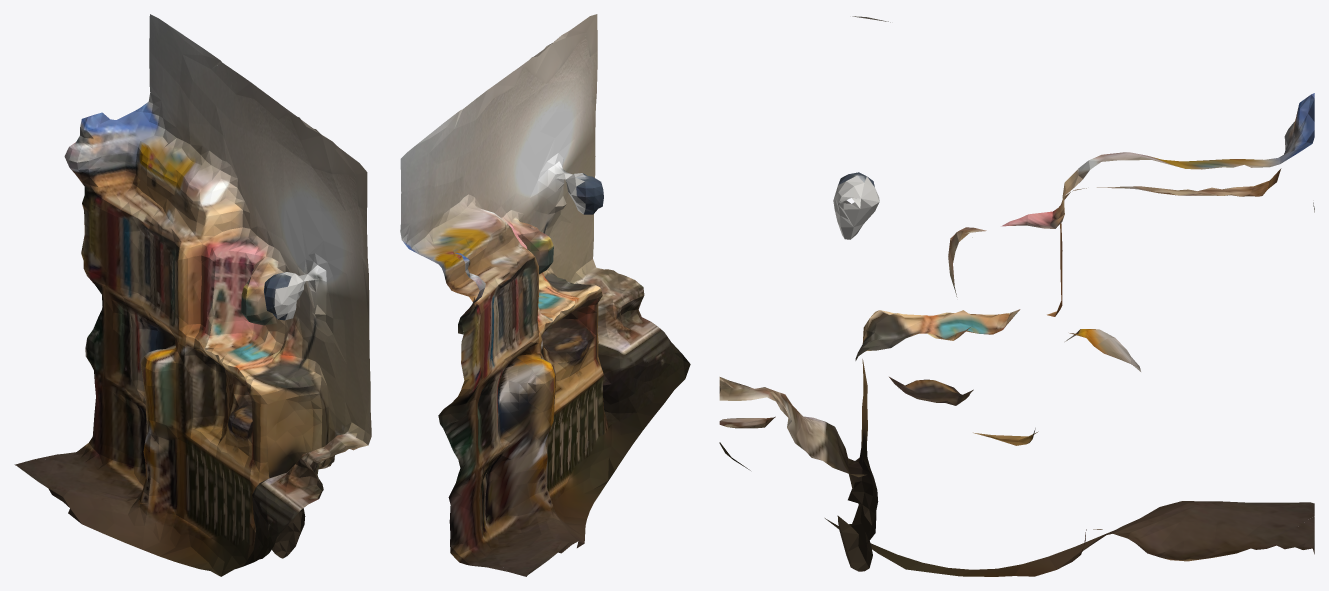
The model's file is bookshelf17.glb.
3 renders of one model, left to right at view 1: azimuth 30°, elevation 25°; view 2: azimuth 150°, elevation 25°; view 3: azimuth 270°, elevation 25°, orthographic. The views are drawn at different scales.
Bounding box in the file's own units: 0.5265 × 1.56 × 1.37.
1 material, 1 textured.
